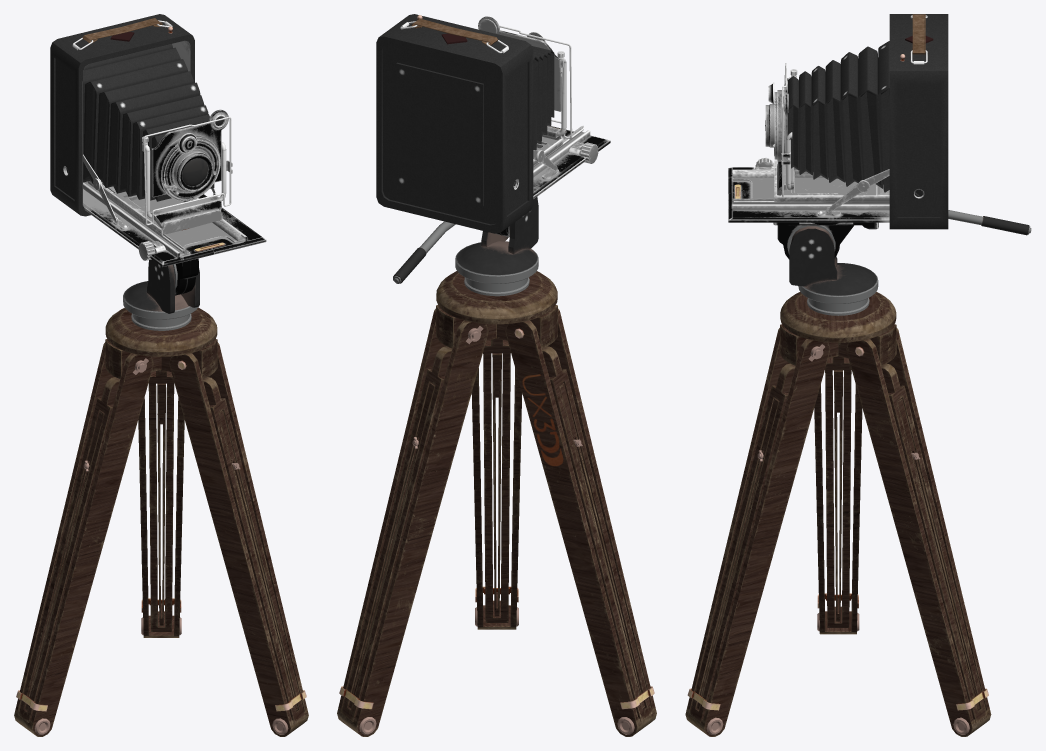
Rendered from camera.glb.
3 views of the same model, side by side, from view 1: azimuth 30°, elevation 25°; view 2: azimuth 150°, elevation 25°; view 3: azimuth 270°, elevation 25° (orthographic). The views are drawn at different scales.
Bounding box in the file's own units: 2.6 × 7.21 × 3.39.
2 materials, 2 textured.
